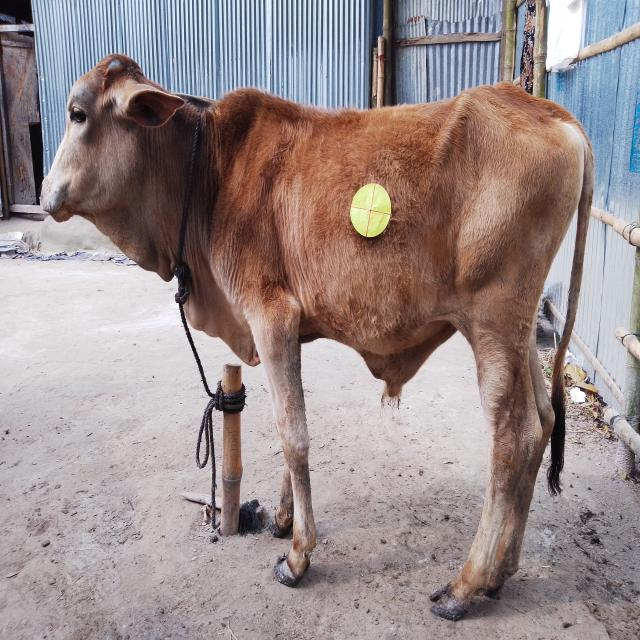badan_sapi: (223, 111, 573, 361)
sapi: (35, 44, 598, 618)
